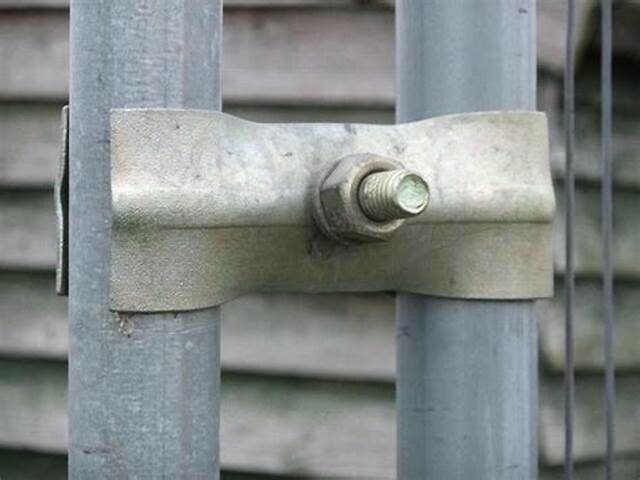bolt_b: (317, 147, 412, 244)
